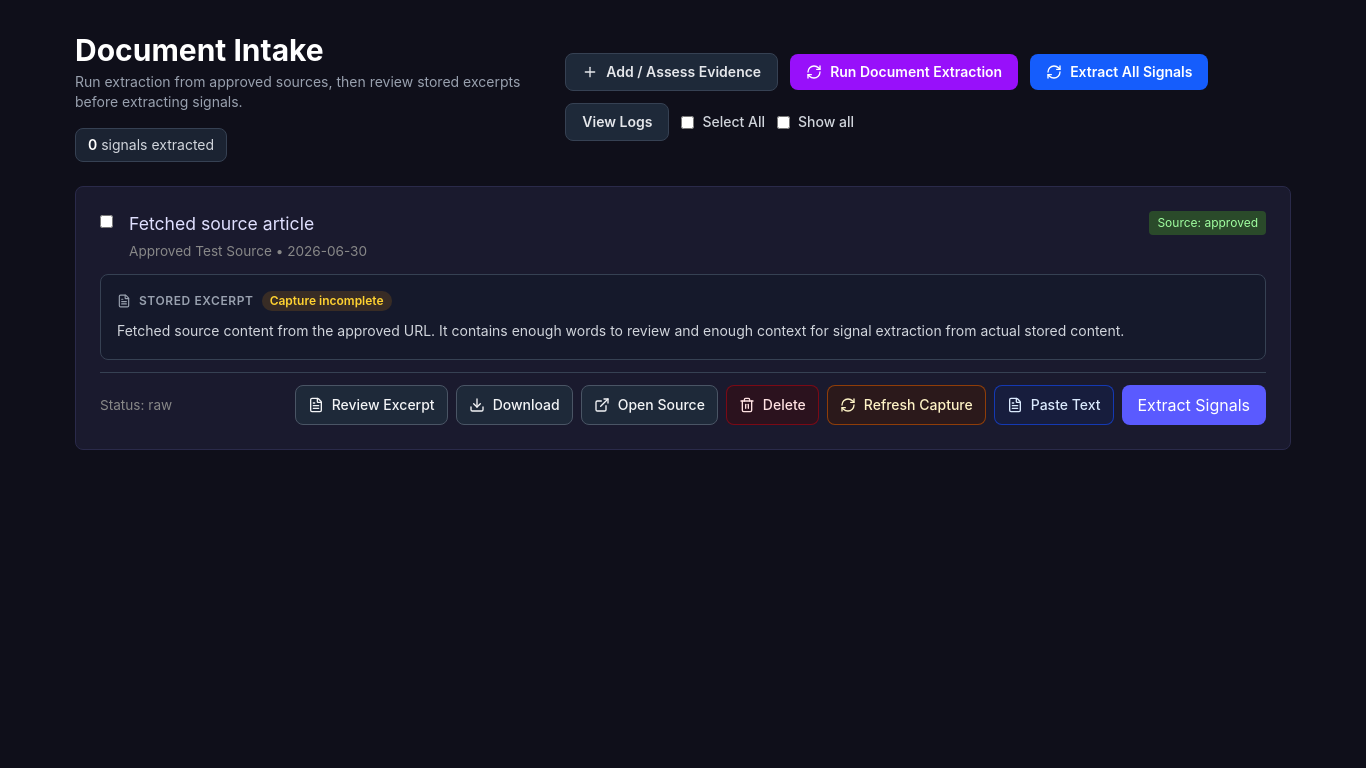
Scenario: DocumentIntake › opens a review panel with the stored excerpt and source reference
Check: the heading "Fetched source article" is shown, box [129,213,314,234]
Click the button "Review Excerpt": (371, 405) [295,385,448,425]
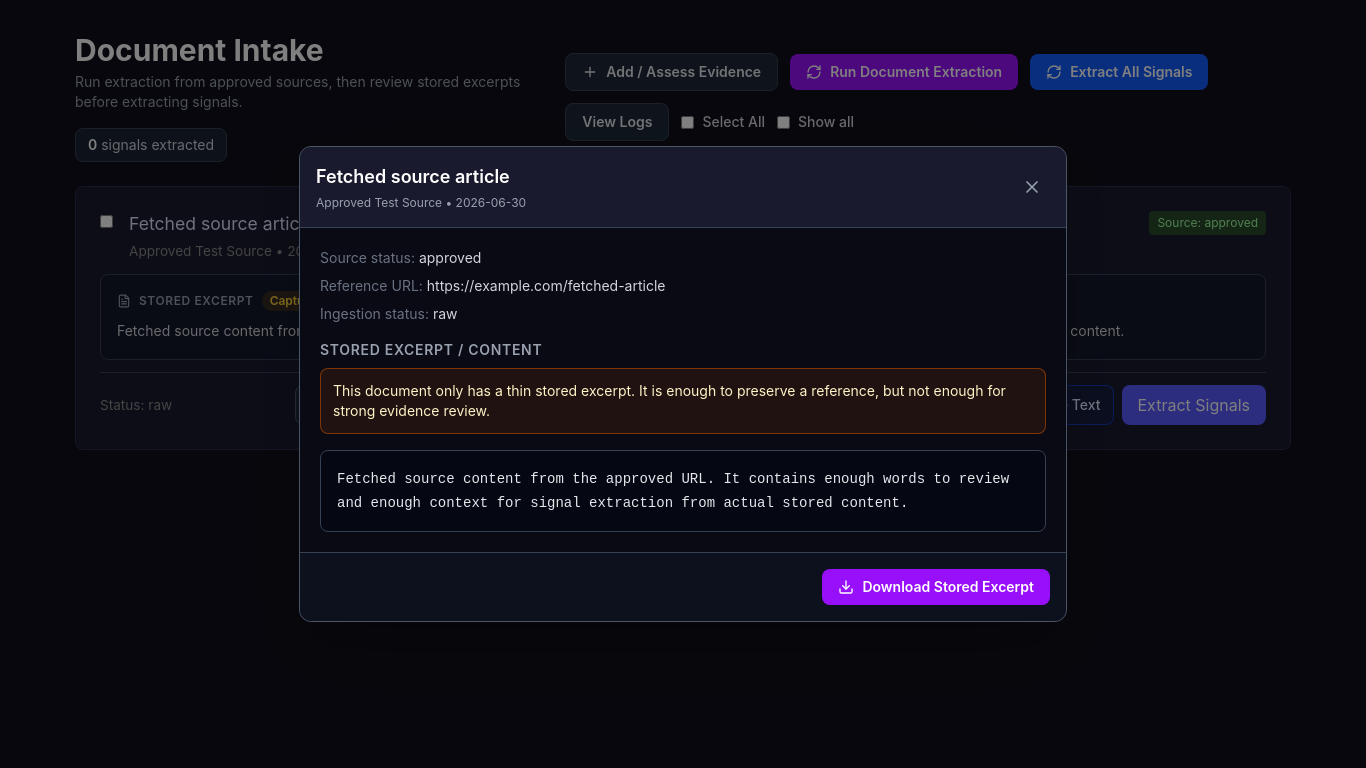
Check: the dialog is shown, box [299,146,1067,622]
Check: the heading "Stored excerpt / content" is shown, box [320,341,542,358]
Check: the text "Reference URL: https://example.com/fetched-article" is shown, box [320,277,666,294]
